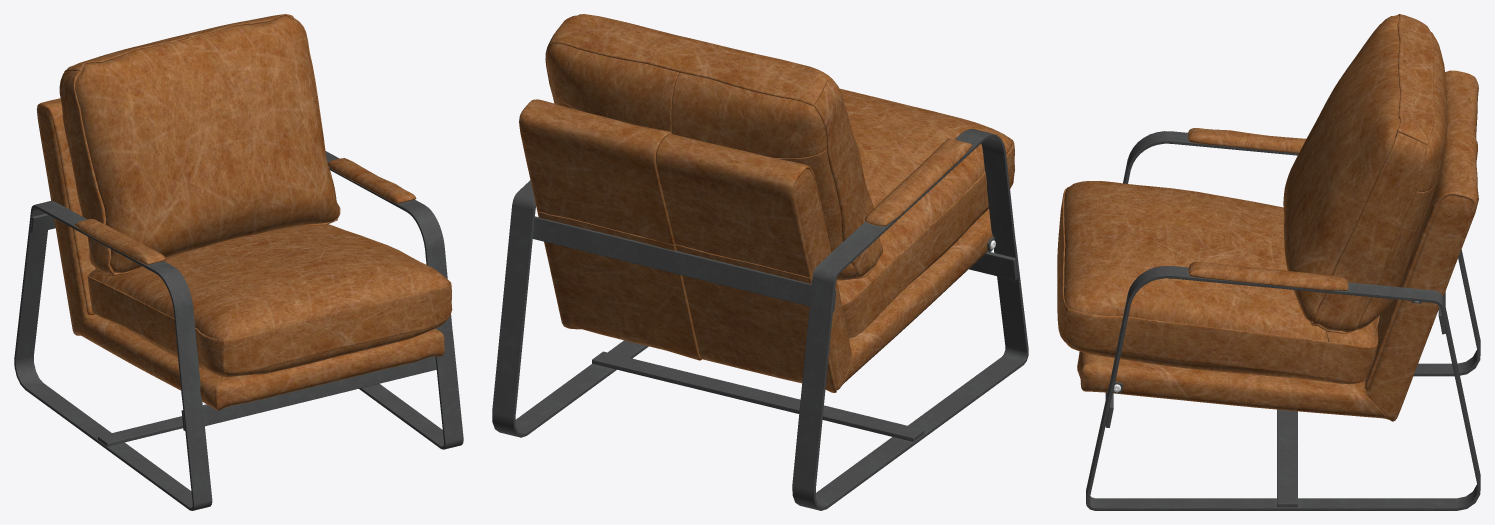
3 views of the same model, side by side, from view 1: azimuth 30°, elevation 25°; view 2: azimuth 150°, elevation 25°; view 3: azimuth 270°, elevation 25° (orthographic). The views are drawn at different scales.
Visible parts, largest first — view 1: RootNode; view 2: RootNode; view 3: RootNode.
Part boxes in pixels (x1,y1,x2,y2): RootNode: [14, 14, 463, 510]; RootNode: [492, 14, 1028, 510]; RootNode: [1057, 14, 1480, 510].
Bounding box in the file's own units: 0.6511 × 0.7772 × 0.8007.
1 material, 1 textured.
